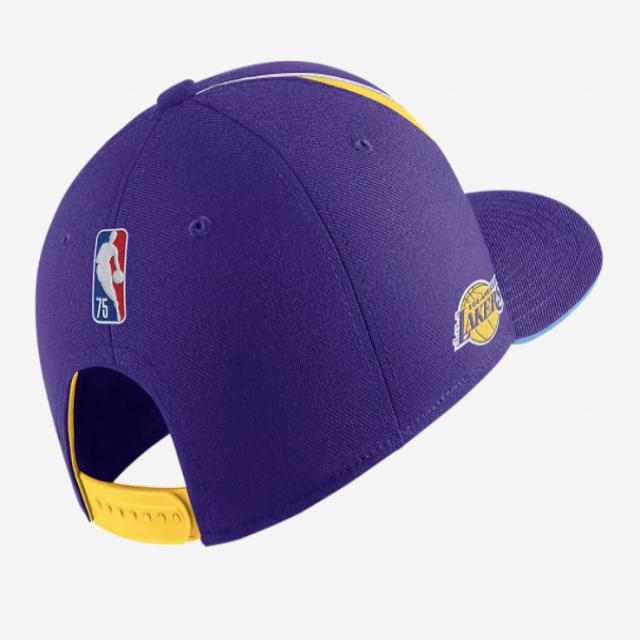mask: (32, 51, 617, 554)
